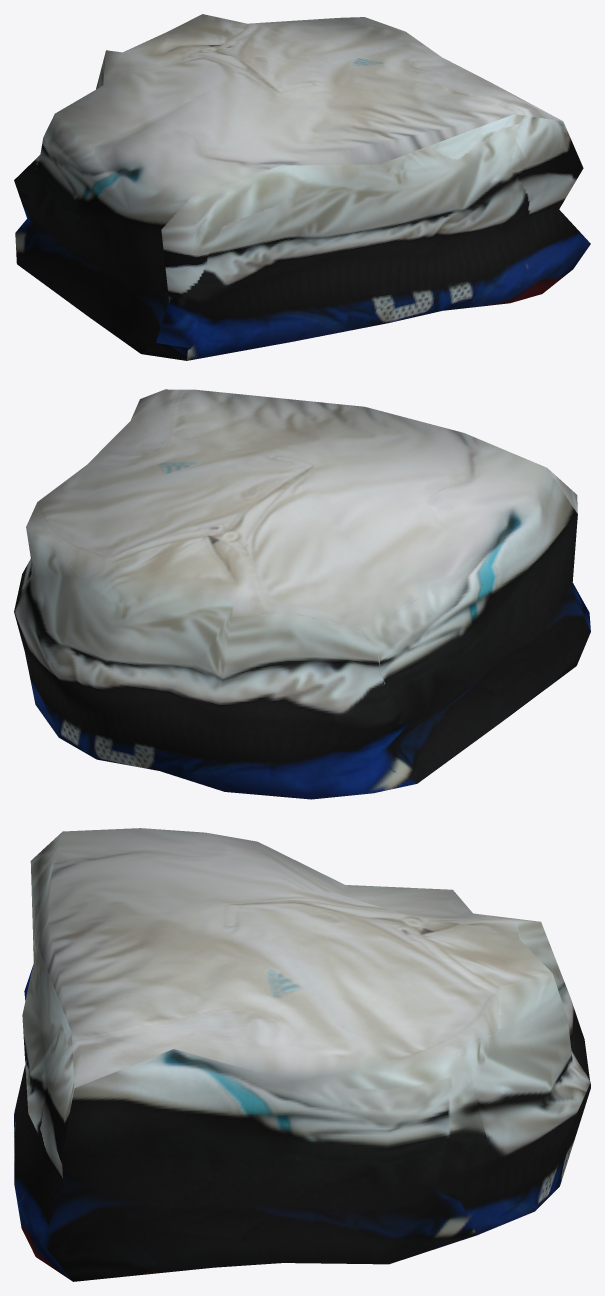
The model's file is shirt_pile-1.FBX.
3 views of the same model, one above another, from view 1: azimuth 30°, elevation 25°; view 2: azimuth 150°, elevation 25°; view 3: azimuth 270°, elevation 25° (orthographic). The views are drawn at different scales.
Parts seen in each view (by area): view 1: Line01; view 2: Line01; view 3: Line01.
Part boxes in pixels (x1,y1,x2,y2): Line01: (14, 14, 590, 360); Line01: (14, 389, 590, 799); Line01: (14, 828, 590, 1281).
Size of the model in its own units: 21.84 by 9.58 by 20.32.
